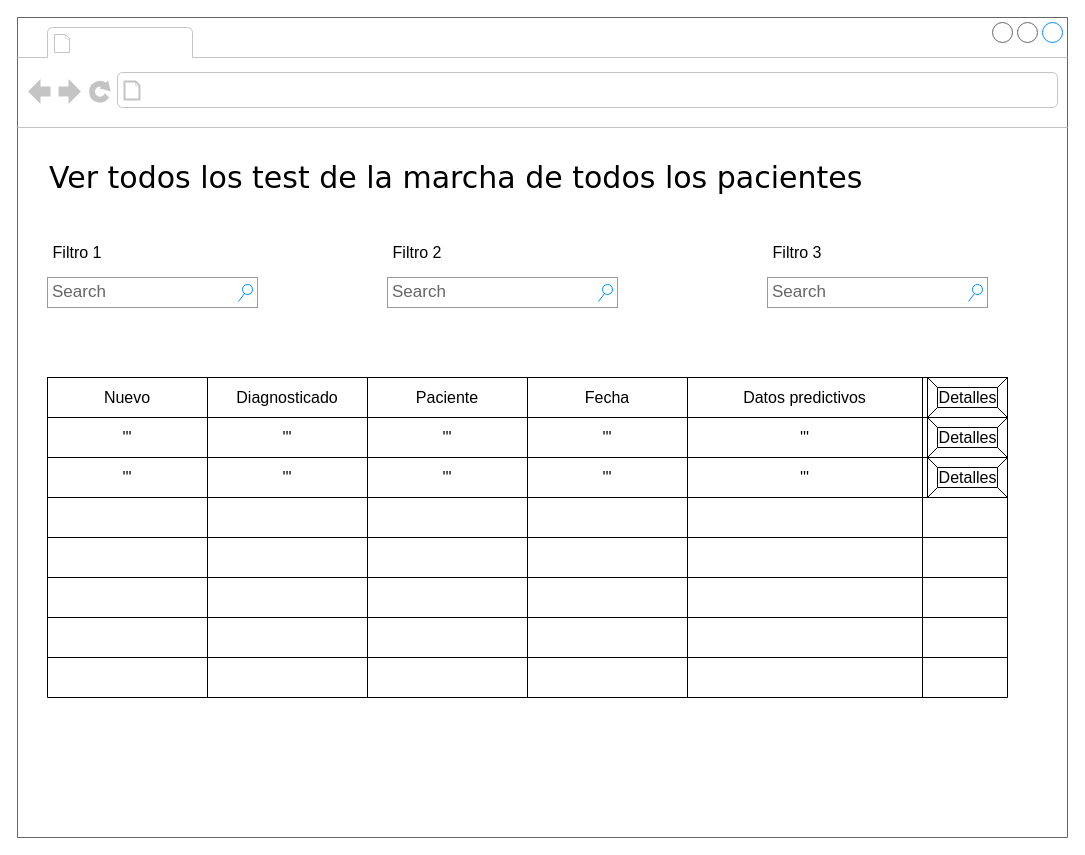
The diagram is 1085 pixels wide and 855 high, and some of its shapes have lost their labels. Here are the shapes that lost their labels. From the top down, the box of each, then its label:
(76, 28, 188, 56): Page 1
(146, 76, 398, 104): https://www.default.com
